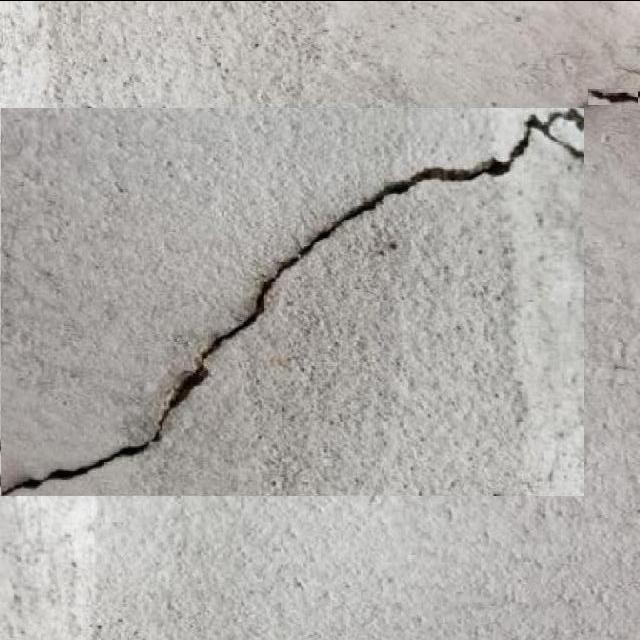crack: (1, 105, 587, 496)
